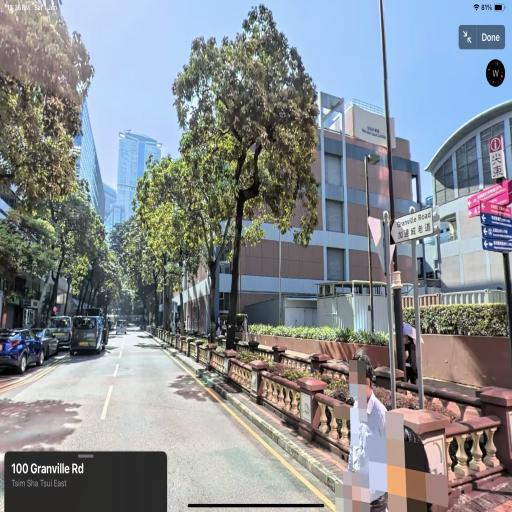Roads: (16, 325, 375, 494)
Trees: (127, 8, 331, 330), (2, 18, 118, 340)
